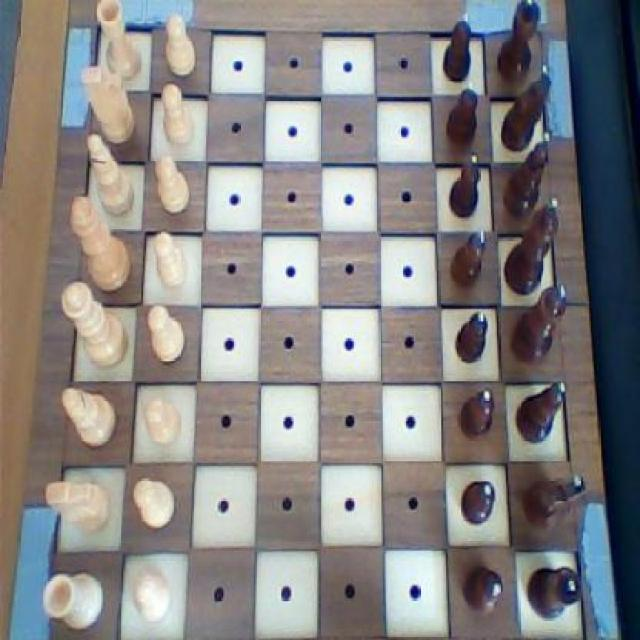bishop: (499, 129, 556, 221), (514, 377, 570, 445)
black-bishop: (502, 192, 566, 300)
black-king: (496, 60, 558, 152), (517, 468, 592, 535)
black-knight: (442, 75, 483, 154), (435, 9, 477, 84), (452, 383, 500, 447), (446, 225, 491, 293), (445, 148, 486, 222), (449, 303, 494, 367), (458, 558, 504, 620), (457, 474, 498, 532)
black-pawn: (508, 280, 574, 368)
black-queen: (495, 0, 541, 88), (523, 562, 585, 624)
black-rook: (81, 130, 138, 218), (60, 383, 120, 455)
white-bishop: (66, 192, 135, 296)
white-king: (77, 57, 142, 150), (41, 472, 117, 542)
white-knight: (155, 78, 198, 150), (131, 474, 180, 537), (144, 300, 188, 367), (150, 151, 192, 219), (160, 11, 199, 83), (149, 226, 189, 294), (130, 570, 176, 626), (141, 394, 184, 449)
white-pawn: (60, 278, 132, 372)
white-queen: (94, 0, 149, 88), (38, 566, 106, 634)
